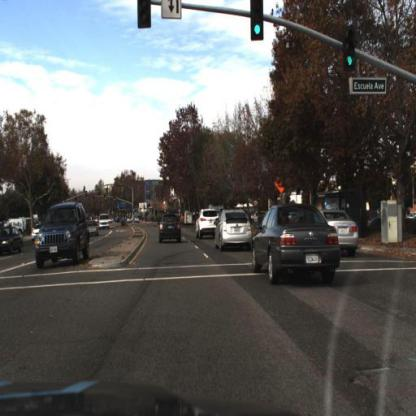car: (249, 189, 350, 305), (35, 202, 92, 266), (212, 200, 256, 260), (334, 191, 364, 258), (195, 200, 219, 249), (156, 208, 182, 246), (1, 215, 22, 239), (96, 209, 114, 232), (87, 216, 100, 236)
trafficLight-Green: (343, 31, 357, 73), (343, 46, 356, 77)
